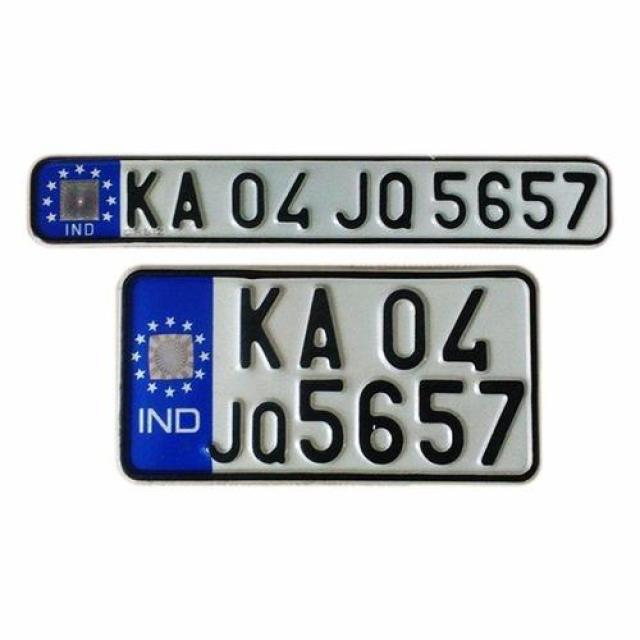0: (378, 288, 430, 372), (230, 170, 268, 230)
4: (441, 289, 496, 369), (274, 171, 316, 231)
5: (415, 378, 472, 468), (294, 378, 351, 467), (428, 168, 467, 232), (520, 168, 555, 230)
6: (356, 379, 410, 466), (478, 174, 516, 230)
7: (473, 377, 527, 467), (562, 170, 598, 233)
a: (296, 287, 348, 370), (172, 172, 211, 232)
j: (336, 166, 374, 234), (210, 402, 245, 465)
k: (233, 284, 286, 374), (122, 168, 164, 232)
q: (252, 404, 294, 466), (377, 172, 416, 233)
